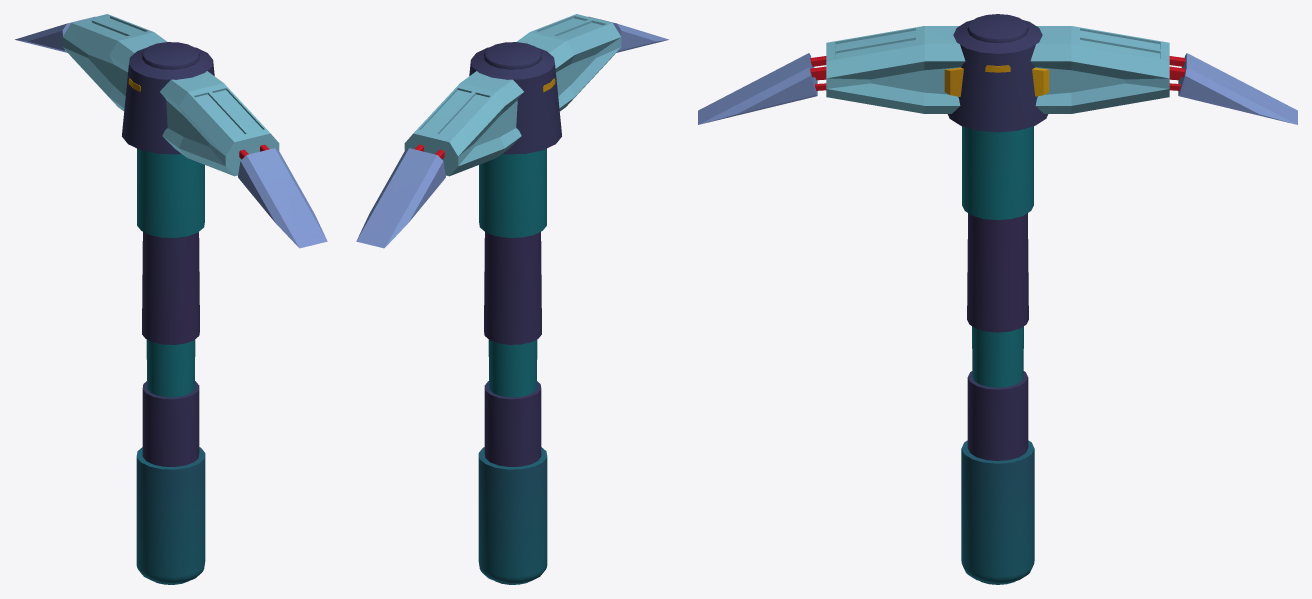
Rendered from pickaxe3.fbx.
3 views of the same model, side by side, from view 1: azimuth 30°, elevation 25°; view 2: azimuth 150°, elevation 25°; view 3: azimuth 270°, elevation 25° (orthographic). The views are drawn at different scales.
Parts seen in each view (by area): view 1: pickaxe3; view 2: pickaxe3; view 3: pickaxe3.
Boxes of the visible parts, box(x1,y1,x2,y2) form: pickaxe3: box(15, 14, 327, 584); pickaxe3: box(356, 14, 668, 584); pickaxe3: box(698, 14, 1297, 584).
Size of the model in its own units: 0.2484 by 1.44 by 1.43.
